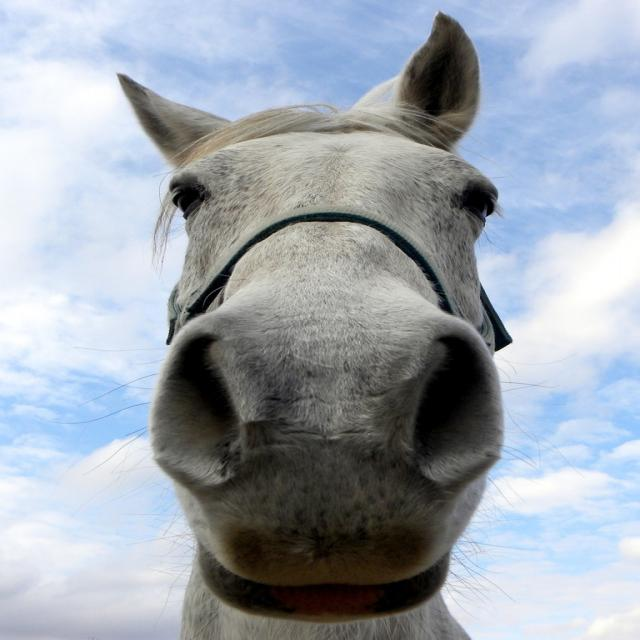Horse: (34, 9, 585, 640)
